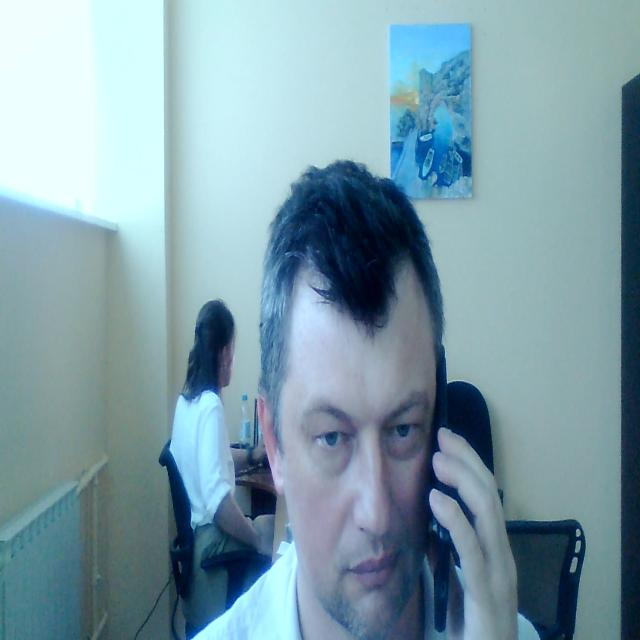phone: (427, 341, 453, 632)
